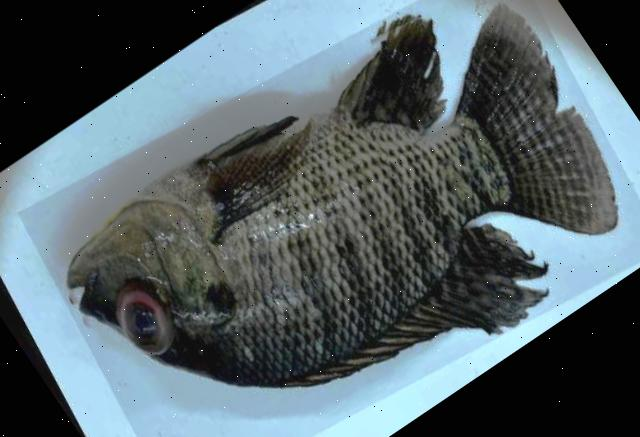Streptococcus: (66, 3, 618, 387), (67, 3, 618, 387)
